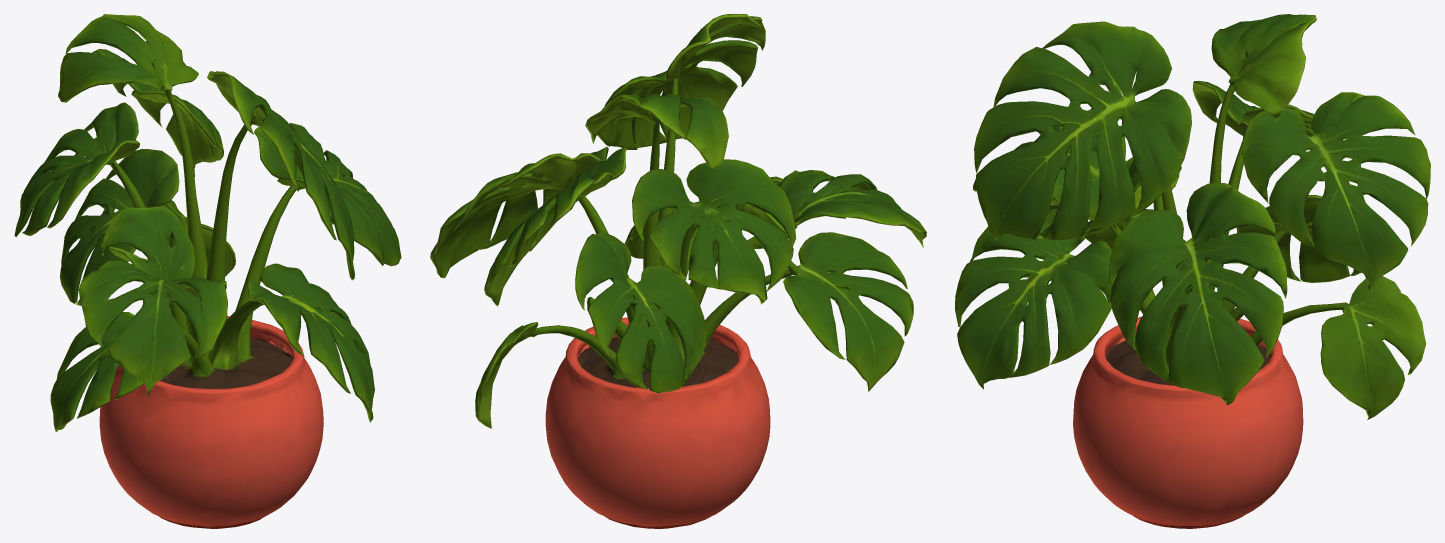
The model's file is SM_House_Monstera.glb.
The picture shows the model from 3 angles, left to right: view 1: azimuth 30°, elevation 25°; view 2: azimuth 150°, elevation 25°; view 3: azimuth 270°, elevation 25°; orthographic projection.
Visible parts, largest first — view 1: tripo_node_c9c5c869-afd2-47fe-9d22-e48c07482690; view 2: tripo_node_c9c5c869-afd2-47fe-9d22-e48c07482690; view 3: tripo_node_c9c5c869-afd2-47fe-9d22-e48c07482690.
Part boxes in pixels (box(x1,y1,x2,y2)): tripo_node_c9c5c869-afd2-47fe-9d22-e48c07482690: box(14, 14, 401, 528); tripo_node_c9c5c869-afd2-47fe-9d22-e48c07482690: box(430, 14, 926, 528); tripo_node_c9c5c869-afd2-47fe-9d22-e48c07482690: box(955, 14, 1430, 528).
Size of the model in its own units: 0.8885 by 1 by 0.9155.
Materials: 1 (1 with a texture image).
